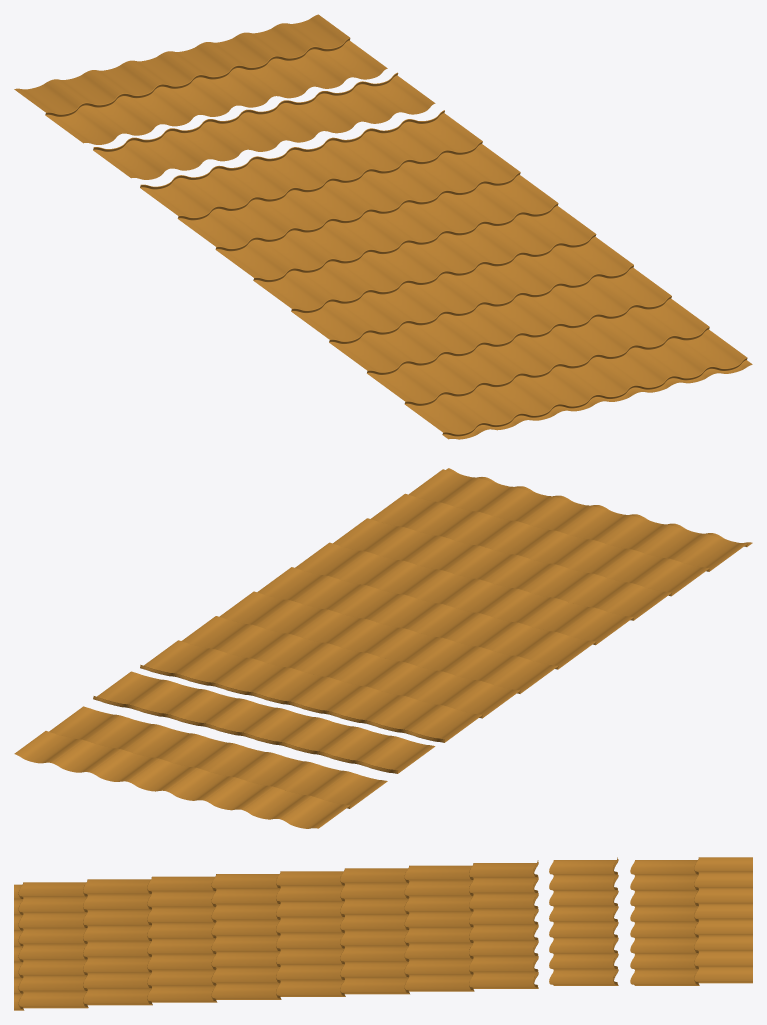
The model's file is krov-transformed.glb.
3 views of the same model, one above another, from view 1: azimuth 30°, elevation 25°; view 2: azimuth 150°, elevation 25°; view 3: azimuth 270°, elevation 25° (orthographic). The views are drawn at different scales.
Visible parts, largest first — view 1: metal_roof_tiles; view 2: metal_roof_tiles; view 3: metal_roof_tiles.
Part boxes in pixels (x1,y1,x2,y2): metal_roof_tiles: (14, 14, 752, 439); metal_roof_tiles: (14, 468, 752, 828); metal_roof_tiles: (14, 857, 752, 1010).
Size of the model in its own units: 1577 by 179 by 3897.
